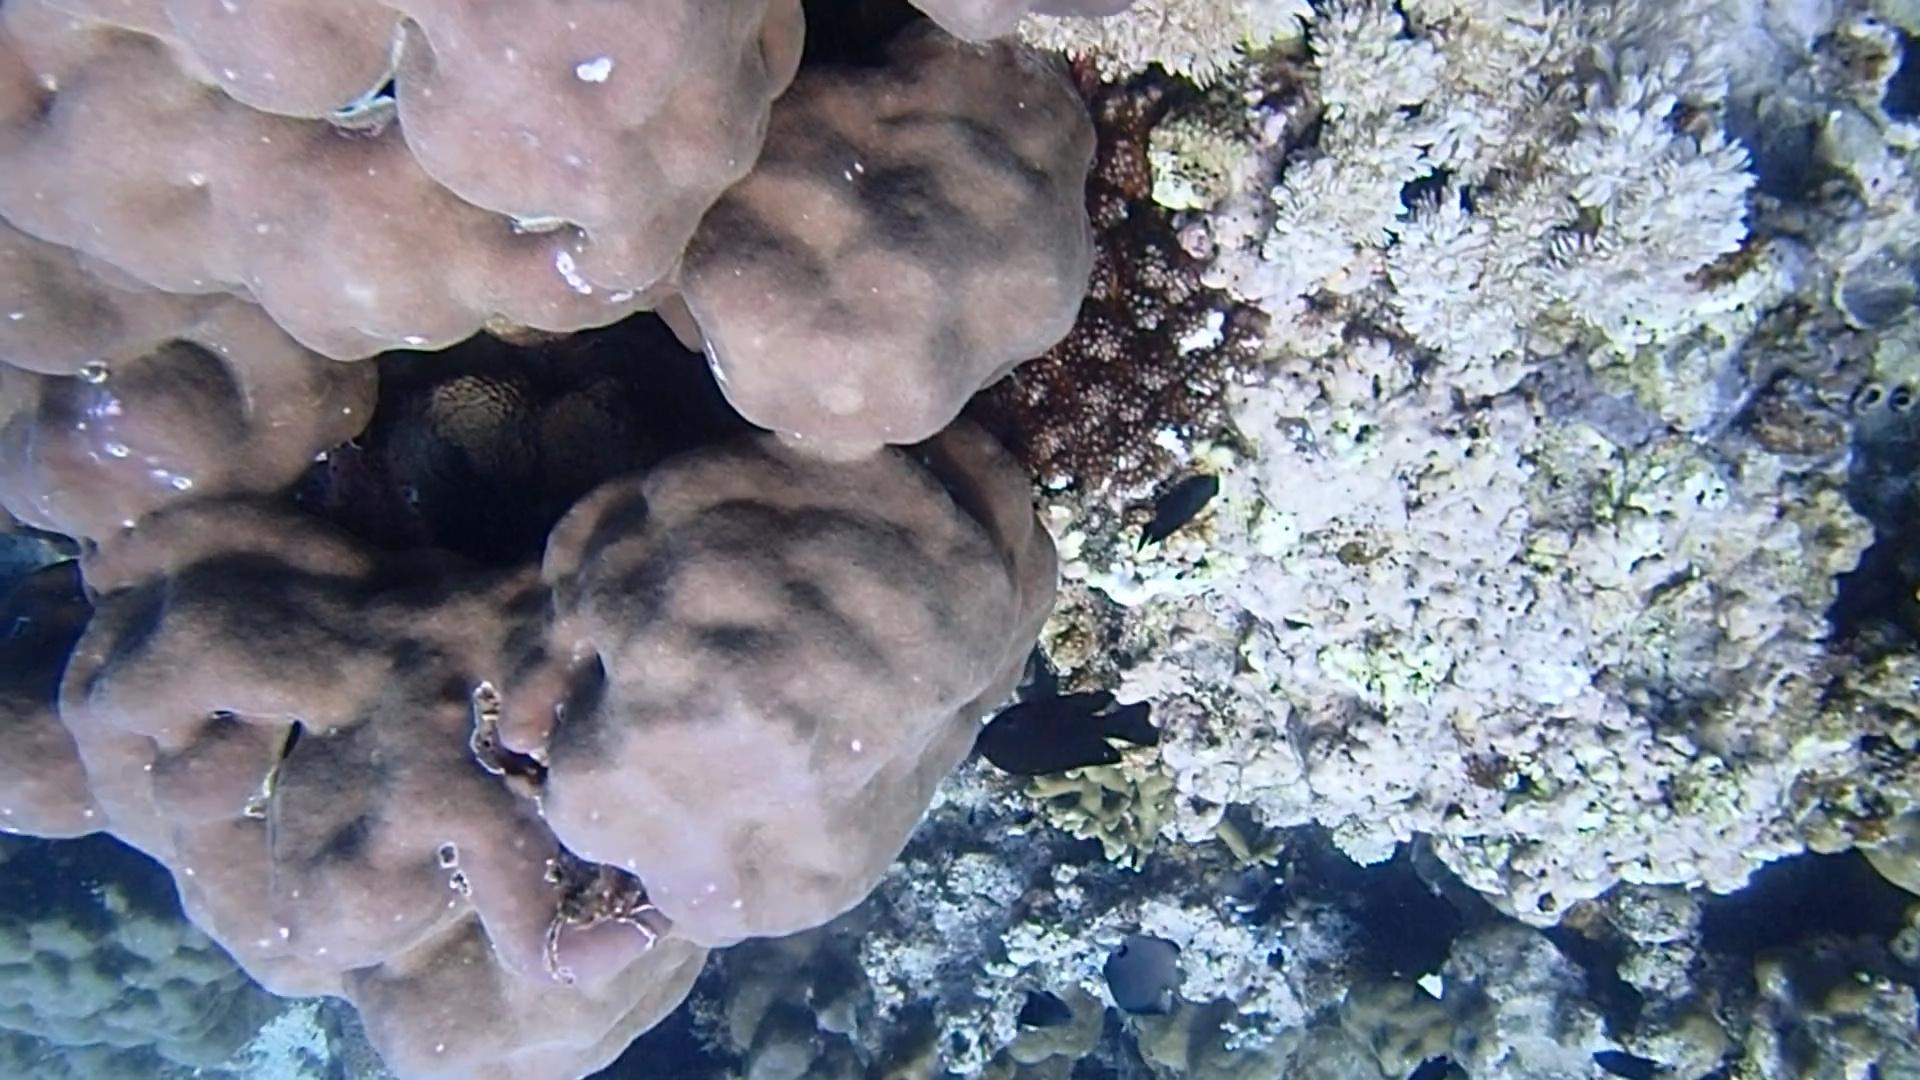Dark Fish: (965, 686, 1168, 786), (1127, 468, 1233, 556), (1013, 981, 1077, 1031), (1237, 881, 1296, 934), (1589, 1046, 1676, 1079), (1406, 1044, 1458, 1080)
Light Fish - Dark Fin: (1096, 928, 1191, 1022)
